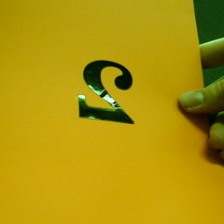orange2: (71, 56, 140, 128)
